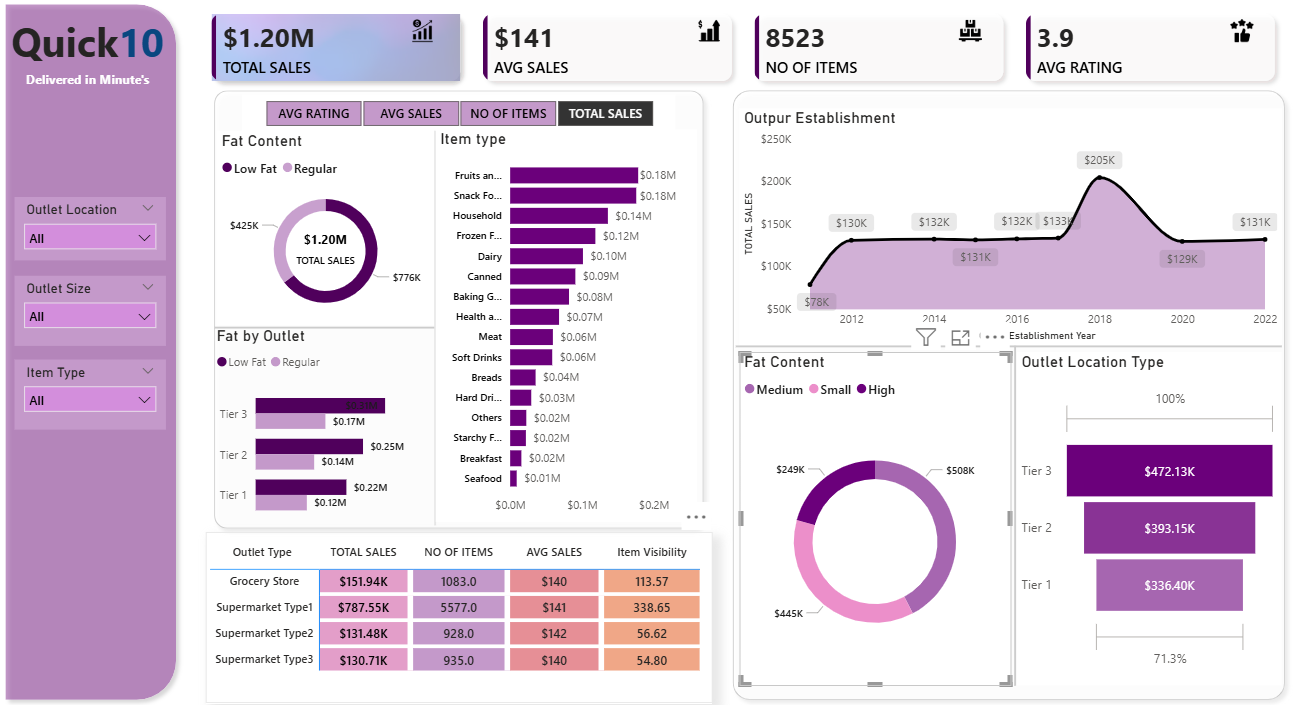

The dashboard page shown, as its layout file describes it:
{"tool":"powerbi","page":{"name":"Page 1","canvas":[1400,800],"ordinal":0},"visuals":[{"type":"shape","box":[0,9.4,201.1,764.1],"z":0},{"type":"textbox","box":[0,24.1,194.4,75.1],"z":1000},{"type":"textbox","box":[12.1,84.5,170.2,28.2],"z":2000},{"type":"cardVisual","fields":{"Data":["BlinkIT Grocery Data.TOTAL SALES","BlinkIT Grocery Data.AVERAGE SALES","BlinkIT Grocery Data.NO OF ITEMS","BlinkIT Grocery Data.AVERAGE RATING"]},"box":[201.1,0,1198.4,130],"z":3000},{"type":"shape","box":[223.9,101.9,542.9,487.9],"z":4000},{"type":"donutChart","title":"Fat Content","fields":{"Y":["BlinkIT Grocery Data.TOTAL SALES"],"Category":["BlinkIT Grocery Data.Item Fat Content"]},"box":[235.9,154.2,233.2,209.1],"z":5000},{"type":"slicer","fields":{"Values":["Metrics.Metrics"]},"box":[262.7,115.3,465.1,40.2],"z":6000},{"type":"card","fields":{"Values":["BlinkIT Grocery Data.TOTAL SALES"]},"box":[312.3,256,80.4,46.9],"z":7000},{"type":"clusteredBarChart","title":"Fat by Outlet","fields":{"Y":["BlinkIT Grocery Data.TOTAL SALES"],"Category":["BlinkIT Grocery Data.Outlet Location Type"],"Series":["BlinkIT Grocery Data.Item Fat Content"]},"box":[230.6,363.3,233.2,222.5],"z":8000},{"type":"shape","box":[233.2,353.9,238.6,22.8],"z":9000},{"type":"shape","box":[463.8,154.2,12.1,423.6],"z":10000},{"type":"barChart","title":"Item type","fields":{"Y":["BlinkIT Grocery Data.TOTAL SALES"],"Category":["BlinkIT Grocery Data.Item Type"]},"box":[470.5,152.8,280.2,420.9],"z":11000},{"type":"shape","box":[780.2,101.9,609.9,671.6],"z":12000},{"type":"lineChart","title":"Outpur Establishment","fields":{"Y":["BlinkIT Grocery Data.TOTAL SALES"],"Category":["BlinkIT Grocery Data.Outlet Establishment Year"]},"box":[796.3,130,581.8,254.7],"z":13000},{"type":"donutChart","title":"Fat Content","fields":{"Y":["BlinkIT Grocery Data.TOTAL SALES"],"Category":["BlinkIT Grocery Data.Outlet Size"]},"box":[796.3,391.4,290.9,357.9],"z":14000},{"type":"funnel","title":" Outlet Location Type","fields":{"Y":["BlinkIT Grocery Data.TOTAL SALES"],"Category":["BlinkIT Grocery Data.Outlet Location Type"]},"box":[1093.8,391.4,284.2,357.9],"z":15000},{"type":"pivotTable","fields":{"Rows":["BlinkIT Grocery Data.Outlet Type"],"Values":["BlinkIT Grocery Data.TOTAL SALES","BlinkIT Grocery Data.NO OF ITEMS","BlinkIT Grocery Data.AVG SALES","Sum(BlinkIT Grocery Data.Item Visibility)"]},"box":[223.9,589.8,542.9,183.6],"z":16000},{"type":"shape","box":[1085.8,384.7,12.1,364.6],"z":17000},{"type":"shape","box":[792.2,379.4,585.8,12.1],"z":18000},{"type":"shape","box":[223.9,584.5,542.9,183.6],"z":19000},{"type":"slicer","fields":{"Values":["BlinkIT Grocery Data.Outlet Location Type"]},"box":[18.8,225.2,162.2,68.4],"z":20000},{"type":"slicer","fields":{"Values":["BlinkIT Grocery Data.Outlet Size"]},"box":[18.8,309.7,162.2,75.1],"z":21000},{"type":"slicer","fields":{"Values":["BlinkIT Grocery Data.Item Type"]},"box":[18.8,399.5,162.2,75.1],"z":22000}]}

Visuals, with their boxes on the page's 1400x800 design canvas (x1, y1, x2, y2). These are canvas units, not pixel positions in the 1295x705 screenshot, which may show the page scaled, cropped or inside an application window:
shape: [left=0, top=9, right=201, bottom=774]
textbox: [left=0, top=24, right=194, bottom=99]
textbox: [left=12, top=84, right=182, bottom=113]
cardVisual - BlinkIT Grocery Data.TOTAL SALES x BlinkIT Grocery Data.AVERAGE SALES: [left=201, top=0, right=1400, bottom=130]
shape: [left=224, top=102, right=767, bottom=590]
"Fat Content" donutChart: [left=236, top=154, right=469, bottom=363]
slicer - Metrics.Metrics: [left=263, top=115, right=728, bottom=156]
card - BlinkIT Grocery Data.TOTAL SALES: [left=312, top=256, right=393, bottom=303]
"Fat by Outlet" clusteredBarChart: [left=231, top=363, right=464, bottom=586]
shape: [left=233, top=354, right=472, bottom=377]
shape: [left=464, top=154, right=476, bottom=578]
"Item type" barChart: [left=470, top=153, right=751, bottom=574]
shape: [left=780, top=102, right=1390, bottom=774]
"Outpur Establishment" lineChart: [left=796, top=130, right=1378, bottom=385]
"Fat Content" donutChart: [left=796, top=391, right=1087, bottom=749]
" Outlet Location Type" funnel: [left=1094, top=391, right=1378, bottom=749]
pivotTable - BlinkIT Grocery Data.Outlet Type x BlinkIT Grocery Data.TOTAL SALES: [left=224, top=590, right=767, bottom=773]
shape: [left=1086, top=385, right=1098, bottom=749]
shape: [left=792, top=379, right=1378, bottom=392]
shape: [left=224, top=584, right=767, bottom=768]
slicer - BlinkIT Grocery Data.Outlet Location Type: [left=19, top=225, right=181, bottom=294]
slicer - BlinkIT Grocery Data.Outlet Size: [left=19, top=310, right=181, bottom=385]
slicer - BlinkIT Grocery Data.Item Type: [left=19, top=400, right=181, bottom=475]
